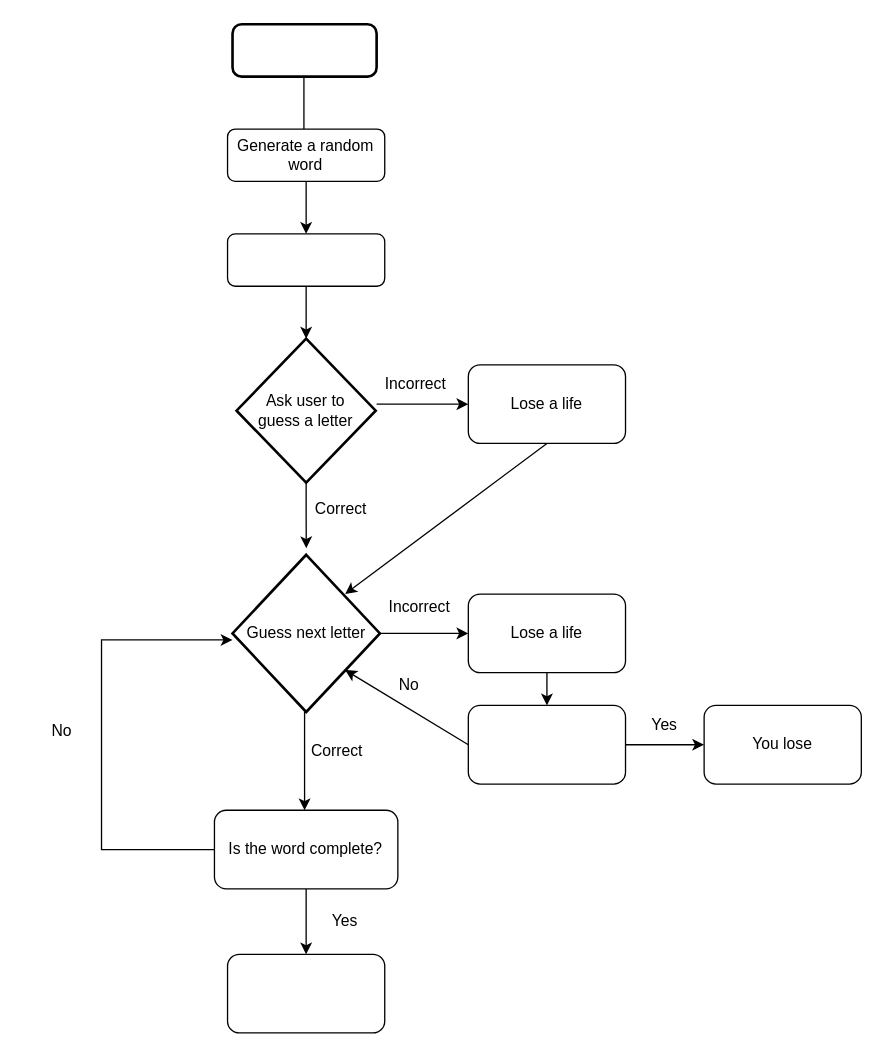
The diagram is 884 pixels wide and 1056 high, and some of its shapes have lost their labels. Here are the shapes that lost their labels. From the top down, the centre of each, then its label:
At (x=304, y=49): "Start".
At (x=305, y=259): "Generate blanks for each letter of word".
At (x=546, y=744): "Is Hangman complete?".
At (x=305, y=993): "You win".
